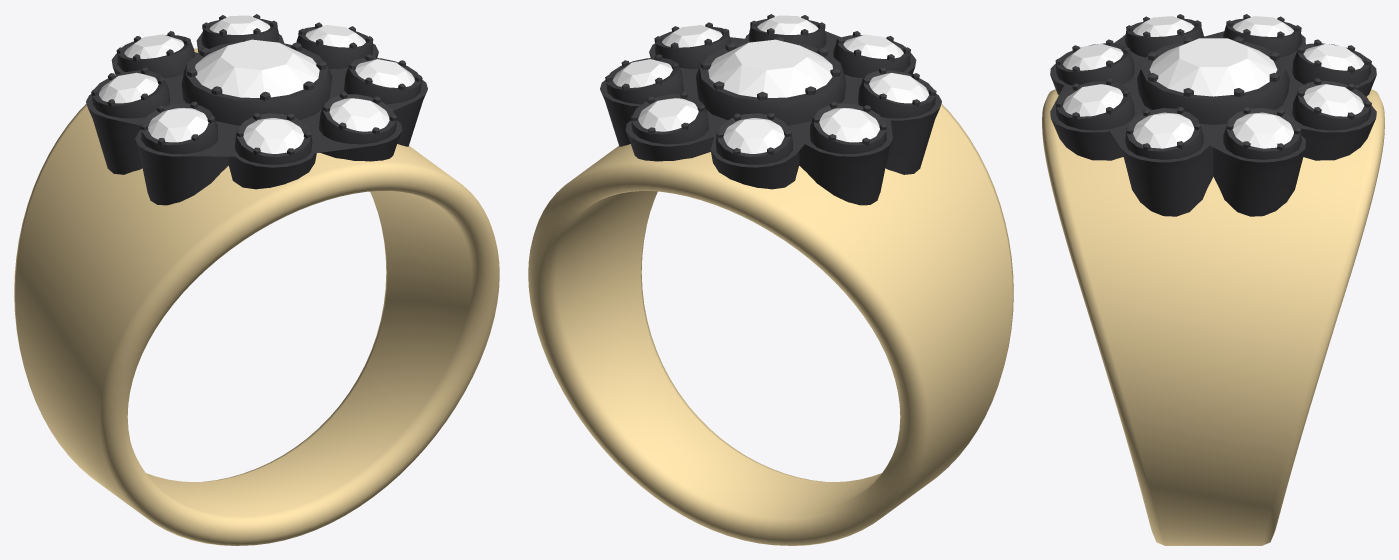
File: Anillo_FlorCirconitas.fbx
3 views of the same model, side by side, from view 1: azimuth 30°, elevation 25°; view 2: azimuth 150°, elevation 25°; view 3: azimuth 270°, elevation 25° (orthographic).
Parts seen in each view (by area): view 1: Anillo_FlorCirconitas; view 2: Anillo_FlorCirconitas; view 3: Anillo_FlorCirconitas.
Part boxes in pixels (bbox=[...]): Anillo_FlorCirconitas: bbox=[14, 14, 499, 545]; Anillo_FlorCirconitas: bbox=[528, 14, 1013, 545]; Anillo_FlorCirconitas: bbox=[1042, 14, 1384, 545].
Bounding box in the file's own units: 0.0209 × 0.0237 × 0.0156.
